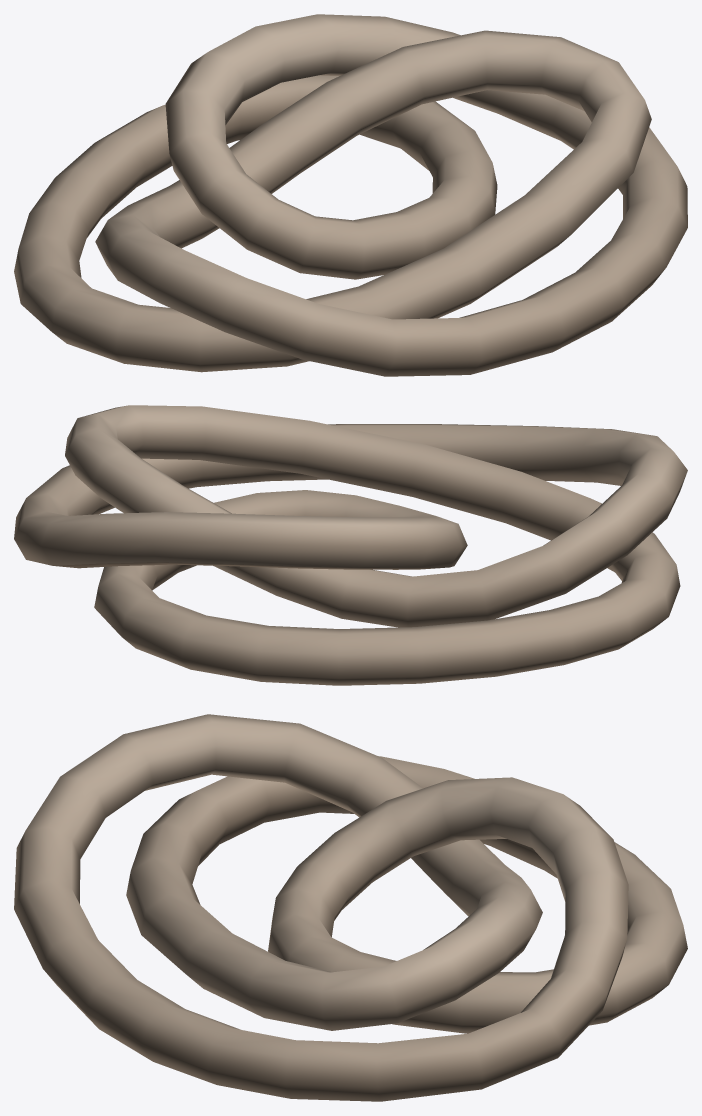
The model's file is rope_bundle_B.fbx.
3 views of the same model, one above another, from view 1: azimuth 30°, elevation 25°; view 2: azimuth 150°, elevation 25°; view 3: azimuth 270°, elevation 25° (orthographic). The views are drawn at different scales.
Parts seen in each view (by area): view 1: rope_bundle_B; view 2: rope_bundle_B; view 3: rope_bundle_B.
Boxes of the visible parts, bbox=[...] form: rope_bundle_B: bbox=[14, 14, 687, 376]; rope_bundle_B: bbox=[14, 405, 687, 685]; rope_bundle_B: bbox=[14, 714, 687, 1101].
Bounding box in the file's own units: 106 × 23.29 × 95.4.
